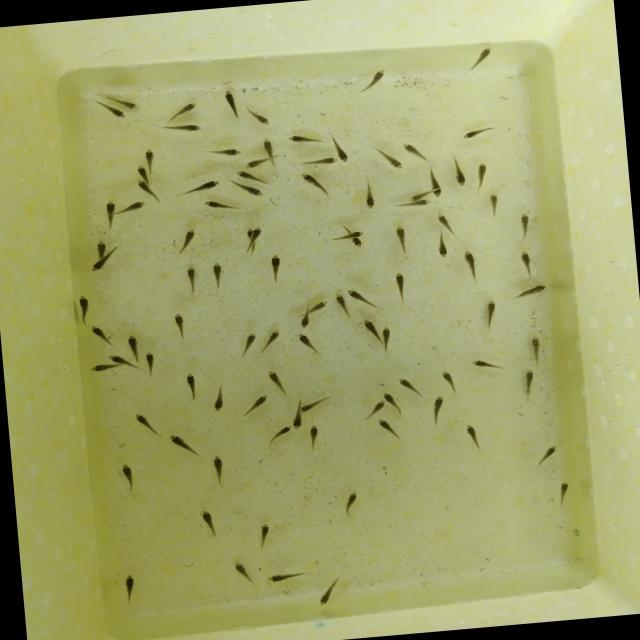fingerling: (165, 431, 202, 459), (344, 286, 378, 312), (238, 392, 272, 417), (230, 557, 258, 587), (316, 579, 344, 608), (180, 179, 220, 199), (376, 326, 398, 362), (376, 145, 405, 172), (132, 409, 161, 436), (376, 418, 406, 444), (118, 461, 141, 494), (398, 375, 428, 400), (257, 329, 285, 355), (200, 145, 240, 163), (298, 166, 324, 192), (402, 140, 430, 164), (441, 367, 462, 399), (88, 322, 116, 346), (362, 68, 392, 90), (207, 453, 227, 486), (202, 196, 237, 214), (470, 48, 494, 74), (294, 332, 320, 356), (138, 180, 164, 204), (532, 445, 559, 468), (382, 388, 404, 416), (222, 85, 240, 119), (175, 228, 199, 253), (304, 424, 324, 454), (168, 311, 188, 341), (428, 398, 449, 426), (472, 352, 500, 373), (450, 157, 468, 189), (266, 368, 288, 394), (201, 512, 220, 542), (362, 174, 377, 212), (265, 427, 292, 448), (342, 490, 362, 518), (520, 247, 536, 282), (269, 256, 289, 284), (520, 368, 538, 399), (513, 284, 547, 300), (121, 570, 138, 602), (284, 132, 322, 146), (362, 319, 383, 344), (86, 255, 115, 273), (472, 163, 490, 192), (394, 271, 412, 300), (256, 524, 276, 550), (112, 201, 149, 215), (265, 570, 302, 584), (239, 334, 258, 361), (302, 299, 334, 315), (184, 374, 202, 402), (466, 423, 484, 451), (300, 156, 336, 170), (334, 292, 351, 320), (182, 268, 200, 294), (244, 154, 277, 168), (333, 140, 352, 164), (118, 95, 142, 114), (298, 398, 330, 412), (392, 223, 408, 250), (211, 388, 228, 413), (486, 295, 500, 325), (101, 107, 131, 121), (76, 290, 90, 320), (103, 198, 118, 226), (556, 482, 572, 508), (144, 148, 160, 174), (247, 108, 270, 126), (175, 98, 198, 116), (89, 362, 126, 373), (233, 169, 260, 184), (238, 182, 265, 197), (248, 225, 264, 250), (530, 336, 544, 364), (488, 192, 503, 218), (146, 353, 162, 377), (438, 212, 457, 232), (464, 126, 491, 140), (431, 174, 446, 199), (462, 250, 478, 273), (211, 260, 224, 288), (366, 398, 386, 416), (166, 123, 204, 132), (106, 353, 132, 366), (520, 213, 534, 237), (337, 228, 364, 240), (436, 234, 449, 258), (288, 414, 306, 431), (393, 200, 430, 208), (91, 240, 108, 257), (126, 334, 140, 354), (408, 190, 431, 202), (134, 164, 148, 181), (262, 138, 275, 156), (516, 408, 530, 422), (298, 316, 312, 329), (350, 237, 364, 249)
